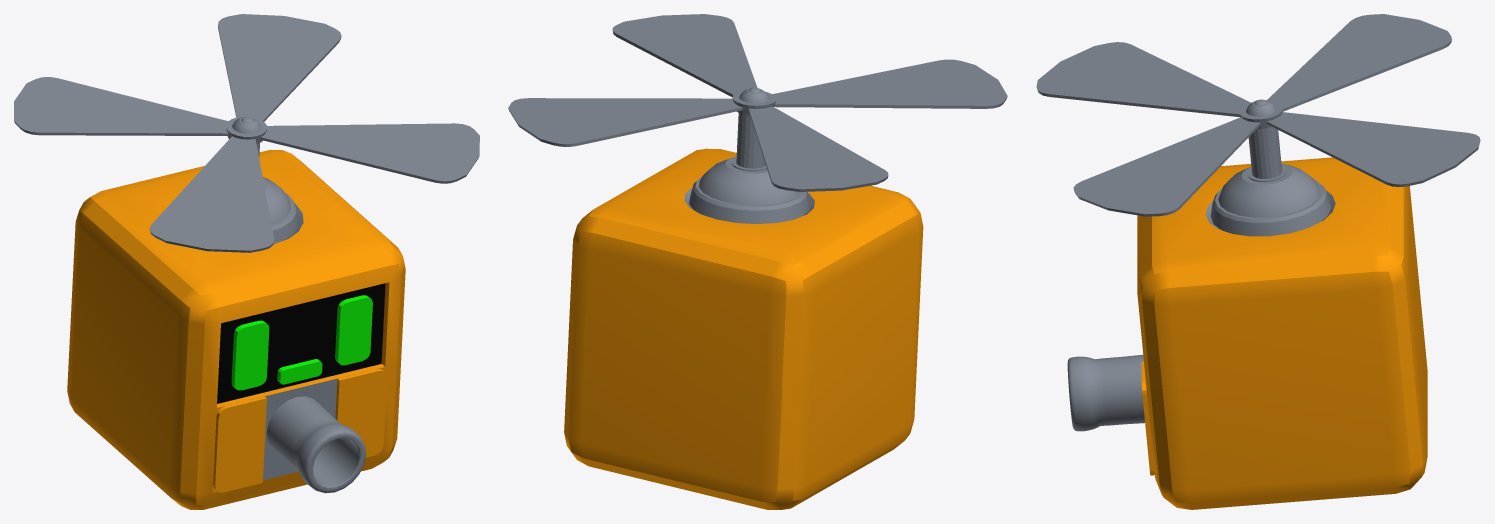
Rendered from Propeller2.fbx.
The picture shows the model from 3 angles, left to right: view 1: azimuth 30°, elevation 25°; view 2: azimuth 150°, elevation 25°; view 3: azimuth 270°, elevation 25°; orthographic projection. The views are drawn at different scales.
Visible parts, largest first — view 1: pCylinder14; view 2: pCylinder14; view 3: pCylinder14.
Boxes of the visible parts, <box> form: pCylinder14: <box>14,14,479,509</box>; pCylinder14: <box>508,14,1007,509</box>; pCylinder14: <box>1036,14,1480,509</box>.
Size of the model in its own units: 45.93 by 43.18 by 47.29.
